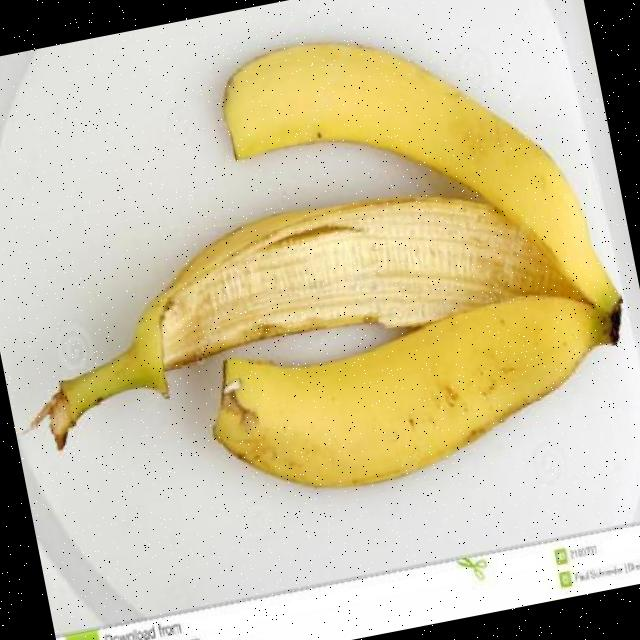banana-peel: (0, 0, 640, 547), (0, 155, 596, 458), (211, 0, 629, 407), (197, 278, 636, 512)
